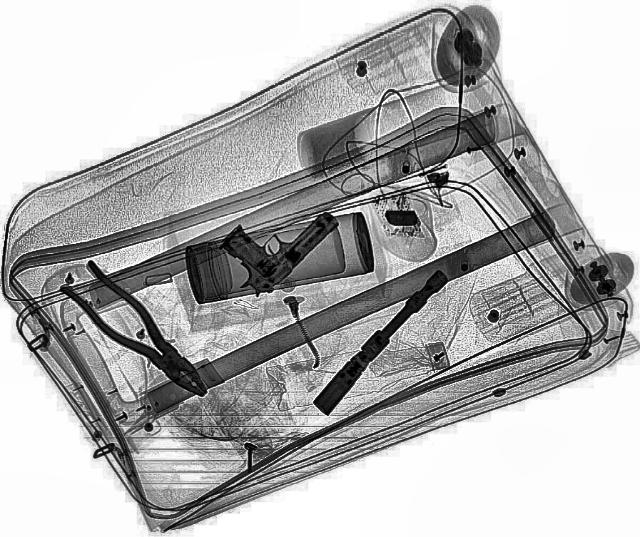Gun: (199, 176, 343, 304)
Pliers: (51, 258, 227, 408)
